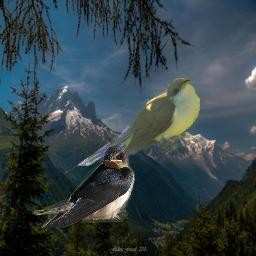Cuckoo: (76, 78, 200, 166)
Swallow: (31, 145, 135, 228)
